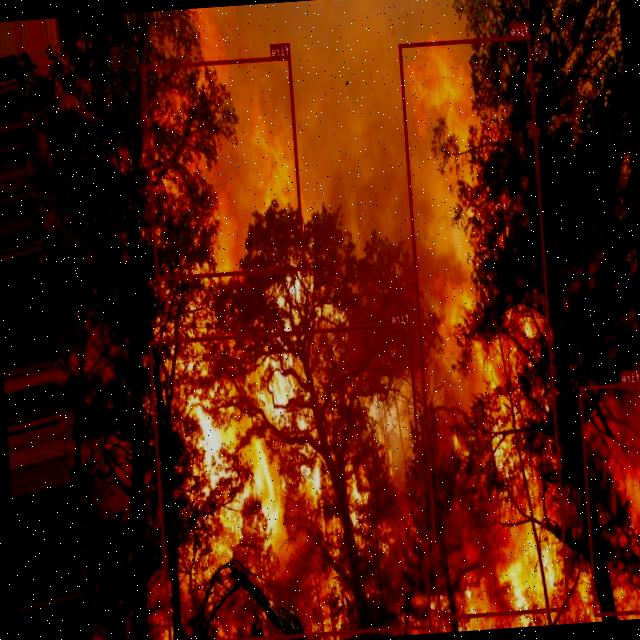fire: (398, 34, 570, 619), (148, 321, 431, 640), (142, 55, 305, 280), (578, 381, 640, 615)
